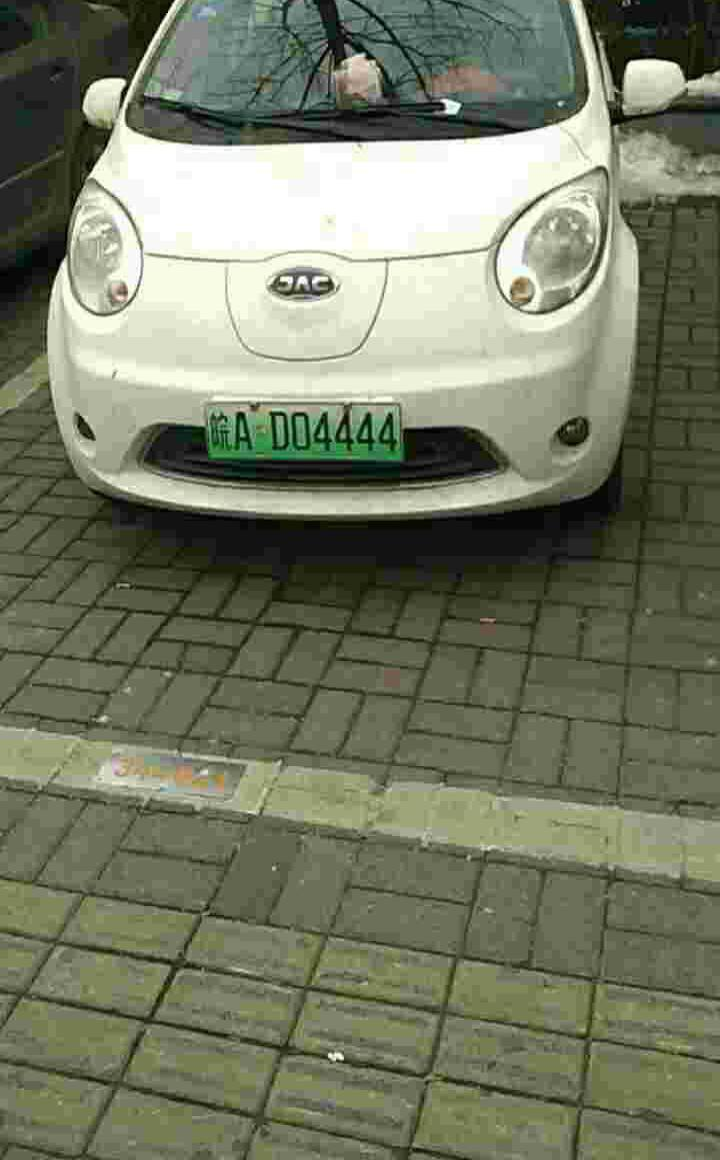car: (206, 398, 403, 464)
